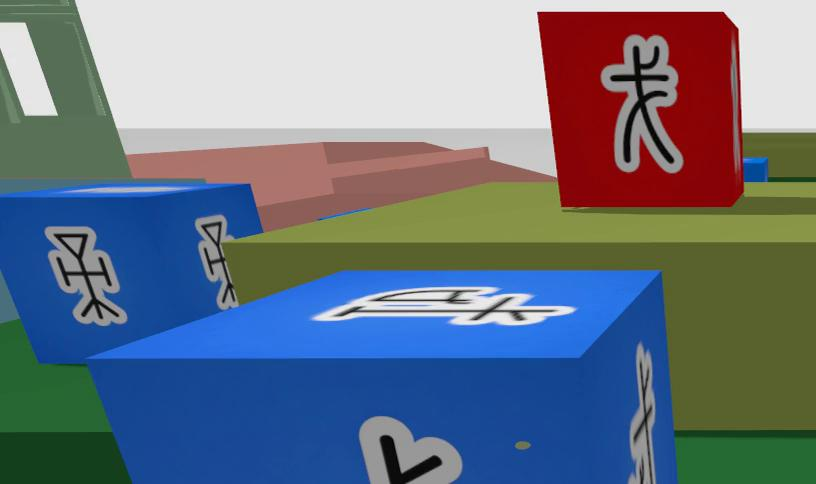KFS_FAKE: (537, 11, 745, 208), (602, 35, 682, 173)
KFS_REAL: (87, 270, 678, 484), (0, 182, 264, 364), (312, 286, 576, 325), (44, 226, 127, 325), (358, 416, 461, 484), (195, 214, 239, 309), (628, 344, 655, 484), (742, 157, 769, 181)
